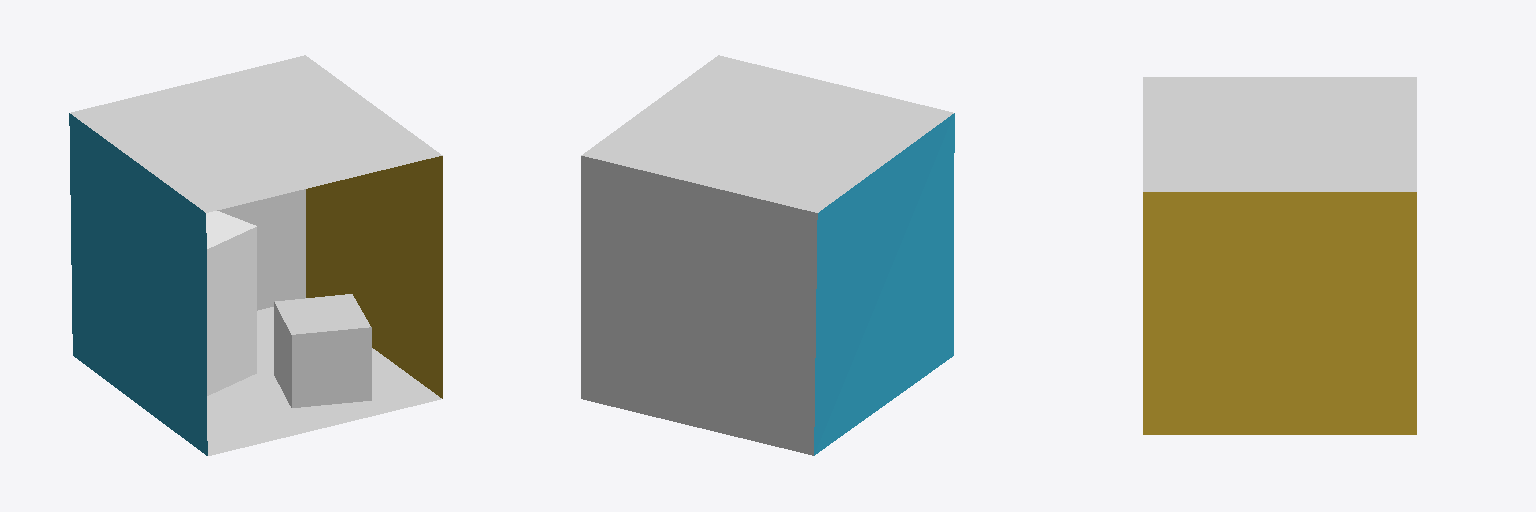
File: cornellbox_nolight.obj
The picture shows the model from 3 angles: view 1: azimuth 30°, elevation 25°; view 2: azimuth 150°, elevation 25°; view 3: azimuth 270°, elevation 25°; orthographic projection.
Parts seen in each view (by area): view 1: leftWall, ceiling, rightWall, floor, shortBox, backWall; view 2: backWall, leftWall, ceiling; view 3: rightWall, ceiling.
Boxes of the visible parts, box(x1,y1,x2,y2) form: leftWall: box(69, 113, 371, 455); ceiling: box(70, 55, 442, 212); rightWall: box(306, 156, 442, 398); floor: box(207, 307, 441, 455); shortBox: box(206, 211, 256, 395); backWall: box(217, 189, 305, 310); backWall: box(581, 156, 817, 455); leftWall: box(814, 113, 954, 455); ceiling: box(581, 55, 953, 212); rightWall: box(1143, 192, 1416, 434); ceiling: box(1143, 77, 1416, 191).
Bounding box in the file's own units: 2.02 × 1.99 × 2.03.